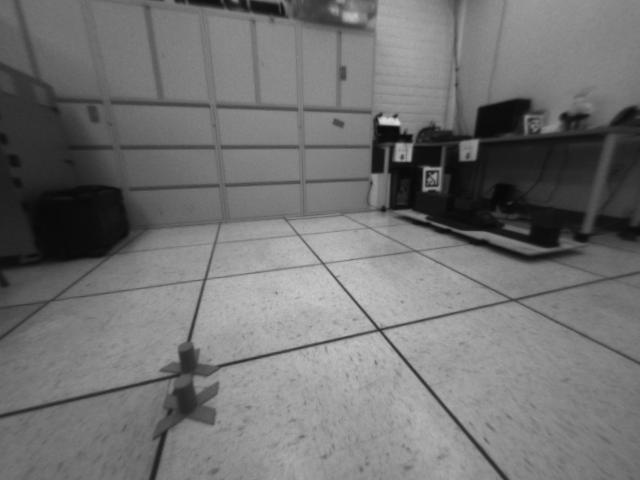X: (150, 374, 220, 442), (158, 341, 218, 391)
